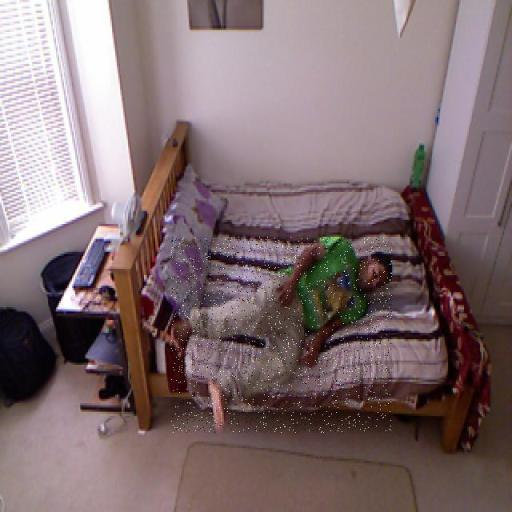Fall: (171, 237, 392, 433)
